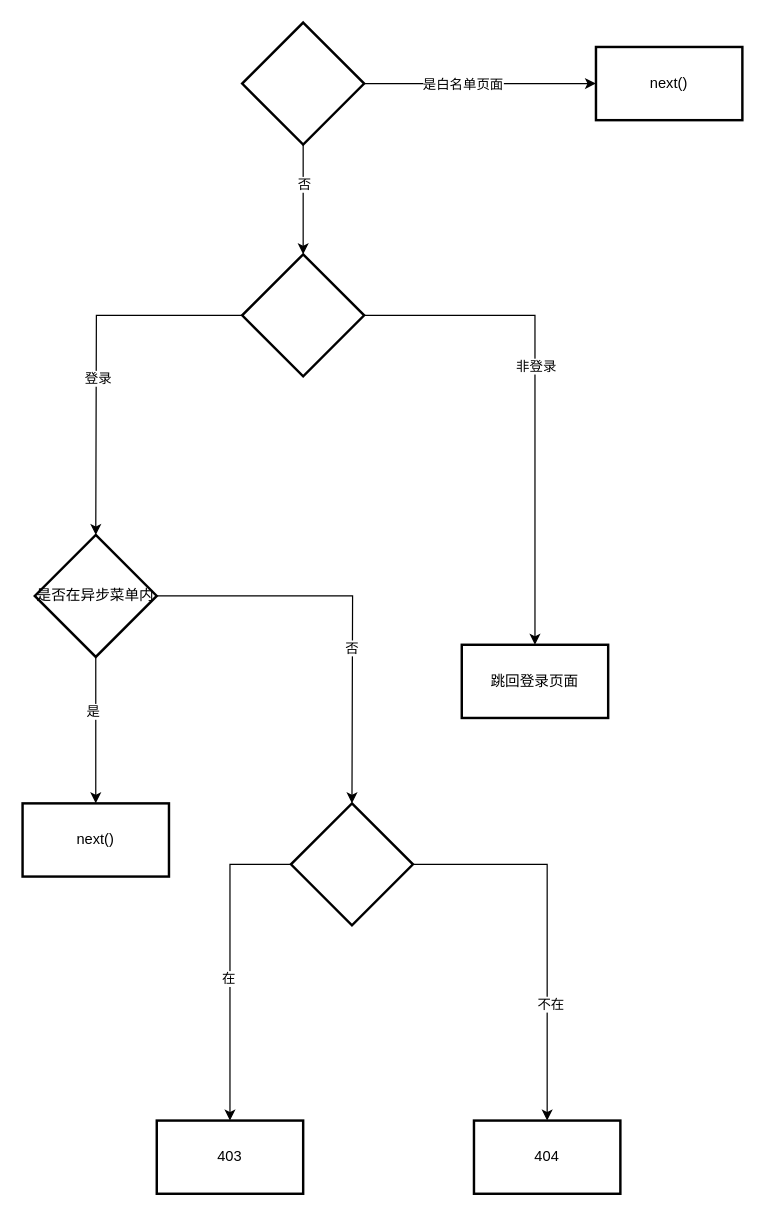
The diagram is 764 pixels wide and 1215 high, and some of its shapes have lost their labels. The shapes that lost their labels are listed below. From the top down, each one's centre as x and y in pixels, then its label:
the point at 302,83: 是否是白名单页面
the point at 302,315: 是否已经登陆
the point at 351,864: 当前菜单是否在全局菜单内
